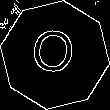O_S: (30, 26, 80, 84)
